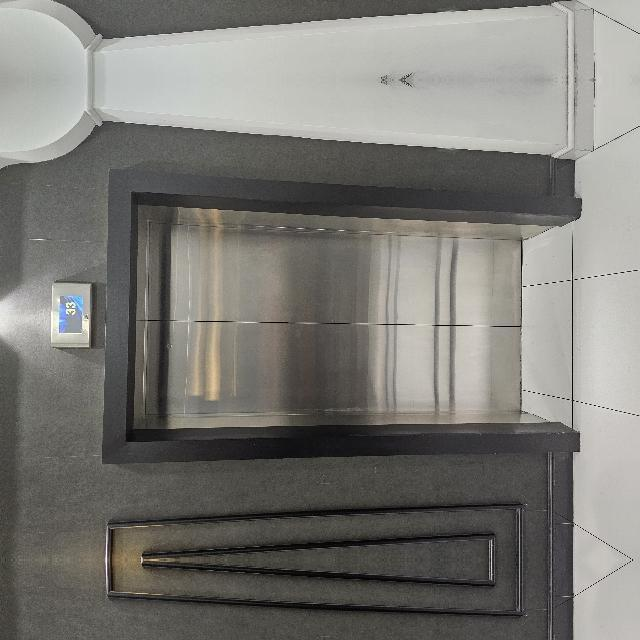door: (90, 177, 398, 640), (90, 443, 398, 640)
